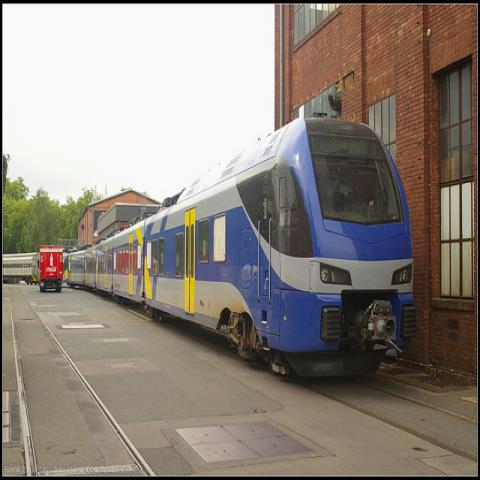truck: (37, 245, 64, 293)
